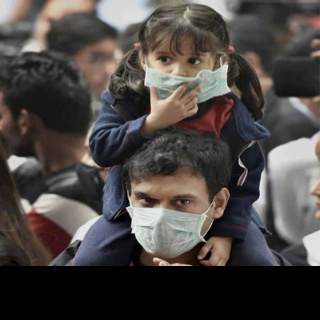with_mask: (131, 190, 209, 257), (148, 49, 217, 104)
